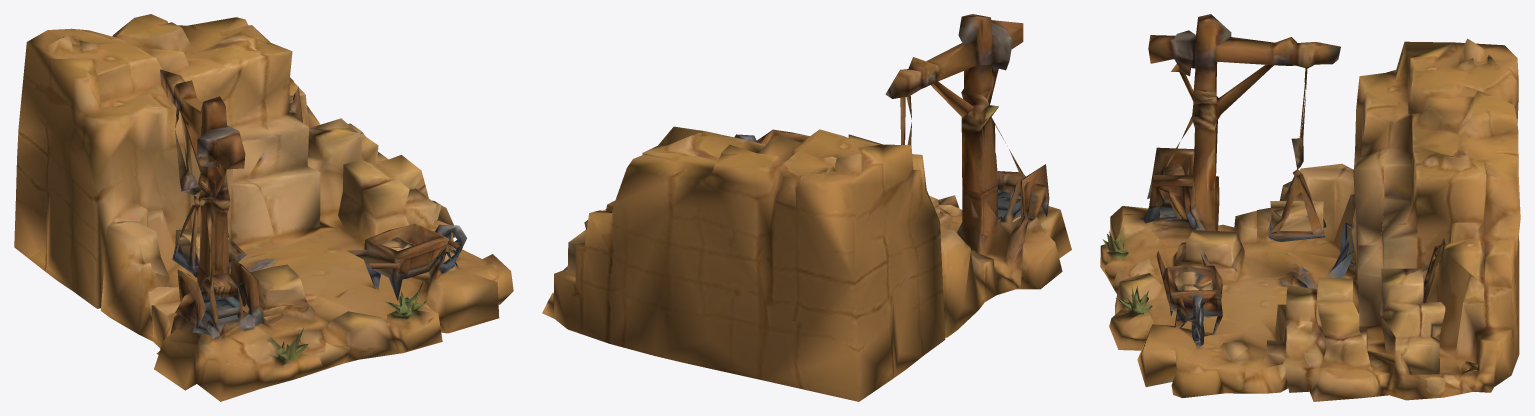
The model's file is quarry.glb.
The picture shows the model from 3 angles, left to right: view 1: azimuth 30°, elevation 25°; view 2: azimuth 150°, elevation 25°; view 3: azimuth 270°, elevation 25°; orthographic projection. The views are drawn at different scales.
Parts seen in each view (by area): view 1: tripo_node_e48168a1-68e4-4fdd-9406-fcbed2607be8; view 2: tripo_node_e48168a1-68e4-4fdd-9406-fcbed2607be8; view 3: tripo_node_e48168a1-68e4-4fdd-9406-fcbed2607be8.
Boxes of the visible parts, x1,y1,x2,y2 form: tripo_node_e48168a1-68e4-4fdd-9406-fcbed2607be8: (14, 14, 513, 401); tripo_node_e48168a1-68e4-4fdd-9406-fcbed2607be8: (542, 14, 1071, 401); tripo_node_e48168a1-68e4-4fdd-9406-fcbed2607be8: (1100, 14, 1520, 401).
Size of the model in its own units: 0.9577 by 0.6462 by 0.9873.
1 material, 1 textured.
